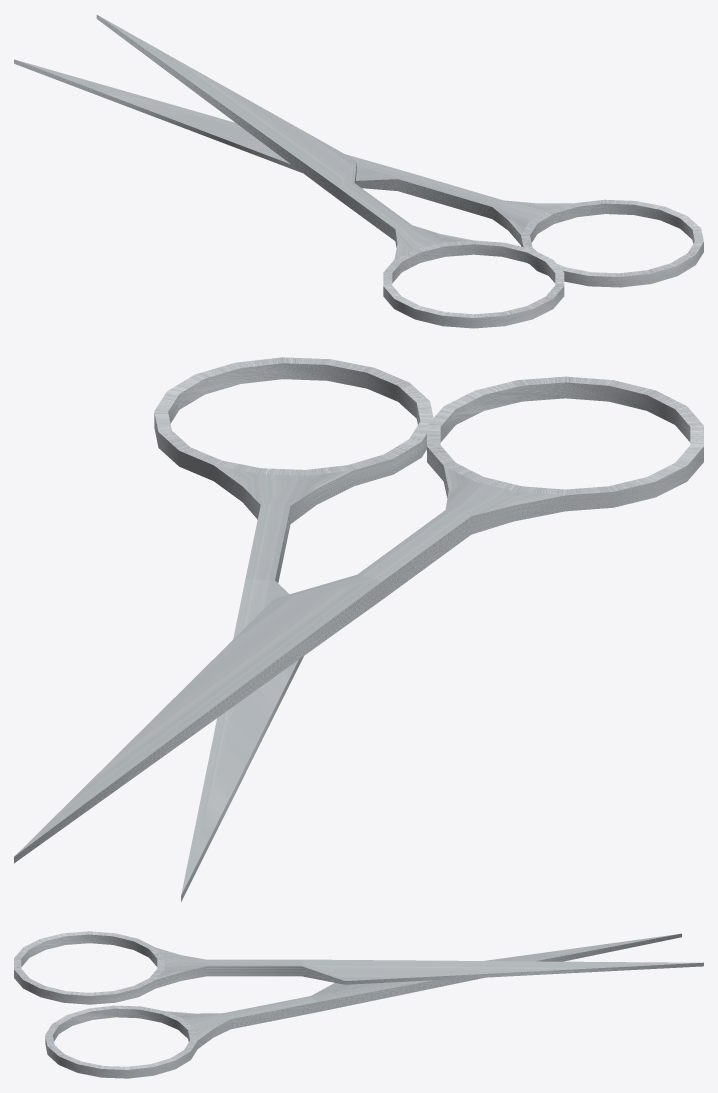
The model's file is Scissors.FBX.
3 renders of one model, top to bottom at view 1: azimuth 30°, elevation 25°; view 2: azimuth 150°, elevation 25°; view 3: azimuth 270°, elevation 25°, orthographic. The views are drawn at different scales.
Visible parts, largest first — view 1: ScissorsA, ScissorsB; view 2: ScissorsA, ScissorsB; view 3: ScissorsA, ScissorsB.
Part boxes in pixels (x1,y1,x2,y2): ScissorsA: (96,15,564,328); ScissorsB: (14,59,703,287); ScissorsA: (14,376,703,863); ScissorsB: (154,357,433,901); ScissorsA: (14,931,703,1004); ScissorsB: (45,933,681,1078).
Size of the model in its own units: 5.85 by 0.3897 by 12.29.
Materials: 1 (1 with a texture image).
